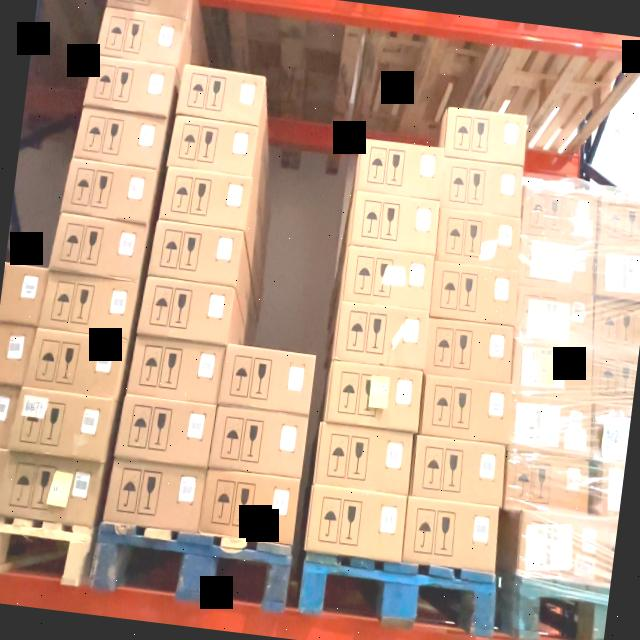box: (302, 483, 408, 562), (208, 402, 312, 480), (400, 494, 502, 572), (512, 509, 618, 584), (217, 340, 321, 416), (104, 458, 207, 532), (312, 421, 414, 495), (201, 470, 303, 544), (10, 388, 112, 461), (117, 394, 216, 468), (409, 433, 509, 506), (0, 454, 101, 526), (38, 272, 142, 340), (27, 330, 128, 400), (325, 360, 423, 432), (130, 336, 226, 406), (51, 212, 148, 280), (501, 448, 598, 514), (419, 375, 513, 443), (334, 302, 430, 368), (149, 220, 244, 286), (353, 137, 447, 202), (140, 276, 234, 341), (342, 248, 436, 312), (430, 260, 520, 326), (62, 161, 154, 224), (425, 318, 516, 381), (350, 192, 440, 255), (74, 106, 164, 169), (158, 168, 248, 230), (436, 206, 523, 270), (509, 392, 594, 457), (94, 7, 184, 66), (85, 58, 175, 117), (170, 116, 258, 175), (511, 338, 596, 398), (514, 284, 596, 346), (444, 108, 530, 167), (179, 68, 265, 126), (440, 158, 524, 216), (522, 186, 602, 245), (518, 237, 596, 290), (0, 263, 45, 323), (593, 300, 640, 356), (588, 404, 632, 462), (590, 354, 638, 405), (595, 246, 640, 299), (596, 197, 640, 248), (0, 324, 31, 384), (106, 0, 190, 18), (600, 463, 624, 519), (0, 385, 16, 447)
